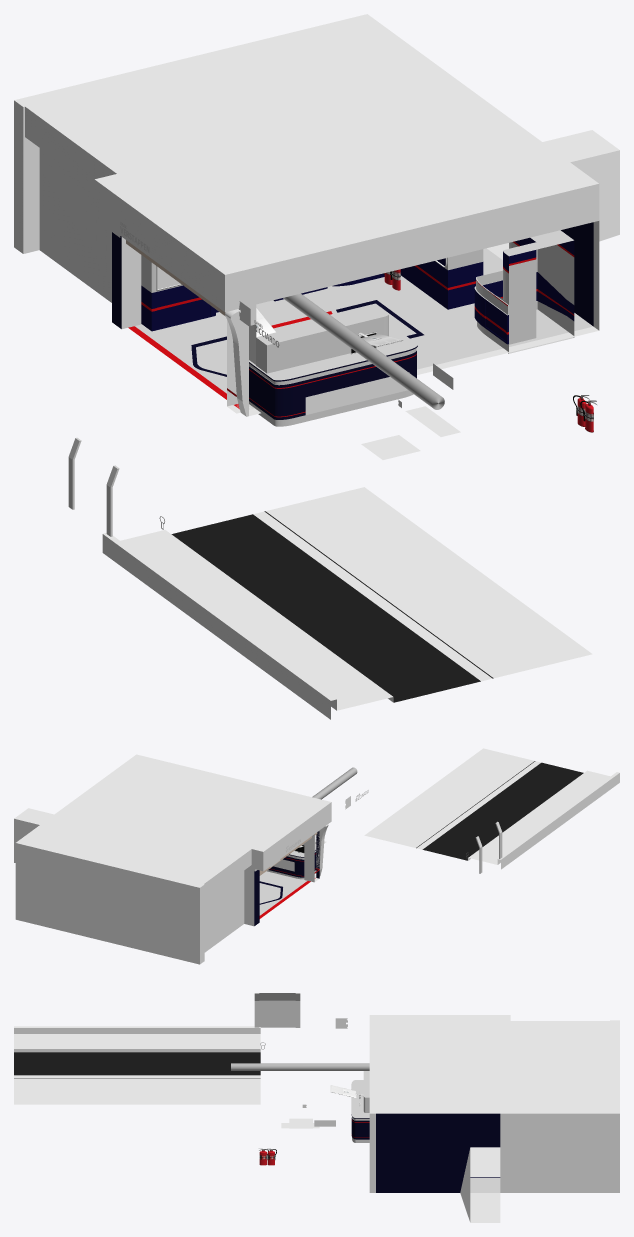
Rendered from detailed_parking_garage.glb.
3 views of the same model, one above another, from view 1: azimuth 30°, elevation 25°; view 2: azimuth 150°, elevation 25°; view 3: azimuth 270°, elevation 25° (orthographic). The views are drawn at different scales.
Parts seen in each view (by area): view 1: Cube, Plane, Cube.006, Cube.002, Cube.001, Cylinder, oracle white, Plane.005; view 2: Cube, Plane, Cube.006, Cylinder; view 3: Cube, Plane, Plane.006, Cube.006, Cylinder, Plane.005.
Boxes of the visible parts, left/top/right/bottom form: Cube: left=14, top=14, right=619, bottom=416; Plane: left=102, top=487, right=592, bottom=719; Cube.006: left=249, top=308, right=417, bottom=426; Cube.002: left=474, top=230, right=574, bottom=353; Cube.001: left=141, top=249, right=483, bottom=331; Cylinder: left=283, top=293, right=444, bottom=409; oracle white: left=305, top=372, right=409, bottom=414; Plane.005: left=68, top=437, right=119, bottom=536; Cube: left=14, top=754, right=331, bottom=964; Plane: left=364, top=748, right=619, bottom=869; Cube.006: left=267, top=836, right=316, bottom=879; Cylinder: left=312, top=767, right=357, bottom=799; Cube: left=369, top=1015, right=619, bottom=1222; Plane: left=14, top=1026, right=260, bottom=1104; Plane.006: left=259, top=993, right=295, bottom=1027; Cube.006: left=351, top=1071, right=369, bottom=1142; Cylinder: left=231, top=1063, right=369, bottom=1070; Plane.005: left=254, top=993, right=300, bottom=1027.
Bounding box in the file's own units: 261 × 52.93 × 356.
Materials: 48 (9 with a texture image).
